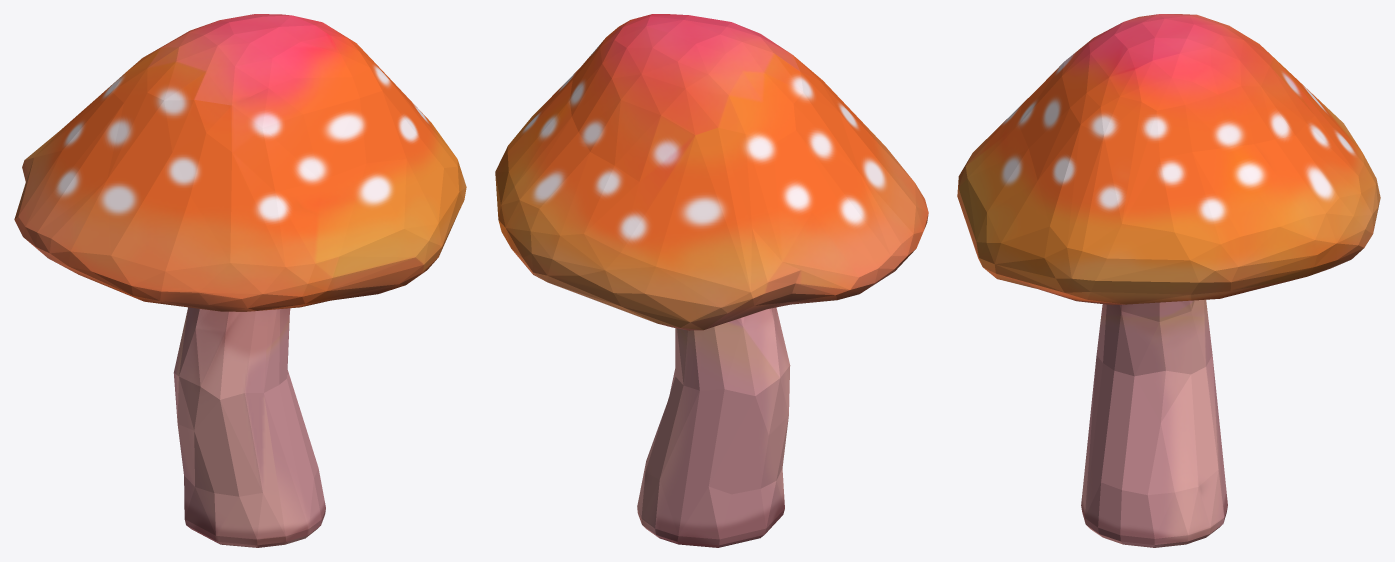
File: mushroom_03.glb
The picture shows the model from 3 angles, left to right: view 1: azimuth 30°, elevation 25°; view 2: azimuth 150°, elevation 25°; view 3: azimuth 270°, elevation 25°; orthographic projection.
Visible parts, largest first — view 1: Circle_Material.001_0; view 2: Circle_Material.001_0; view 3: Circle_Material.001_0.
Boxes of the visible parts, left/top/right/bottom form: Circle_Material.001_0: left=14, top=14, right=466, bottom=547; Circle_Material.001_0: left=495, top=14, right=928, bottom=547; Circle_Material.001_0: left=957, top=14, right=1380, bottom=547.
Bounding box in the file's own units: 1.43 × 1.76 × 1.36.
1 material, 1 textured.
